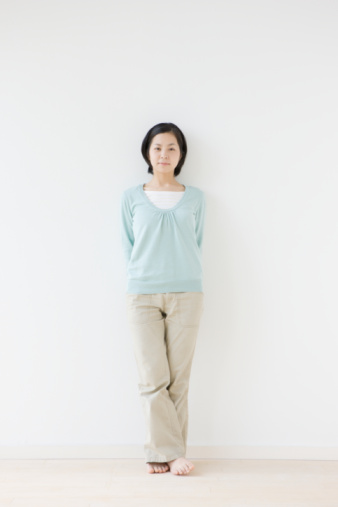em pe: (110, 116, 214, 449)
